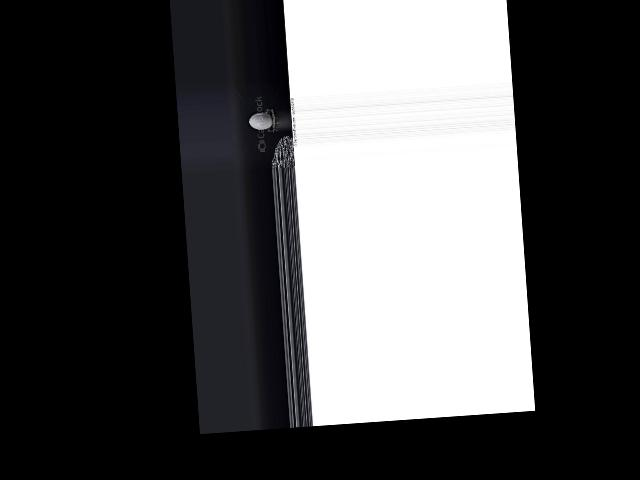egg: (249, 111, 273, 130)
